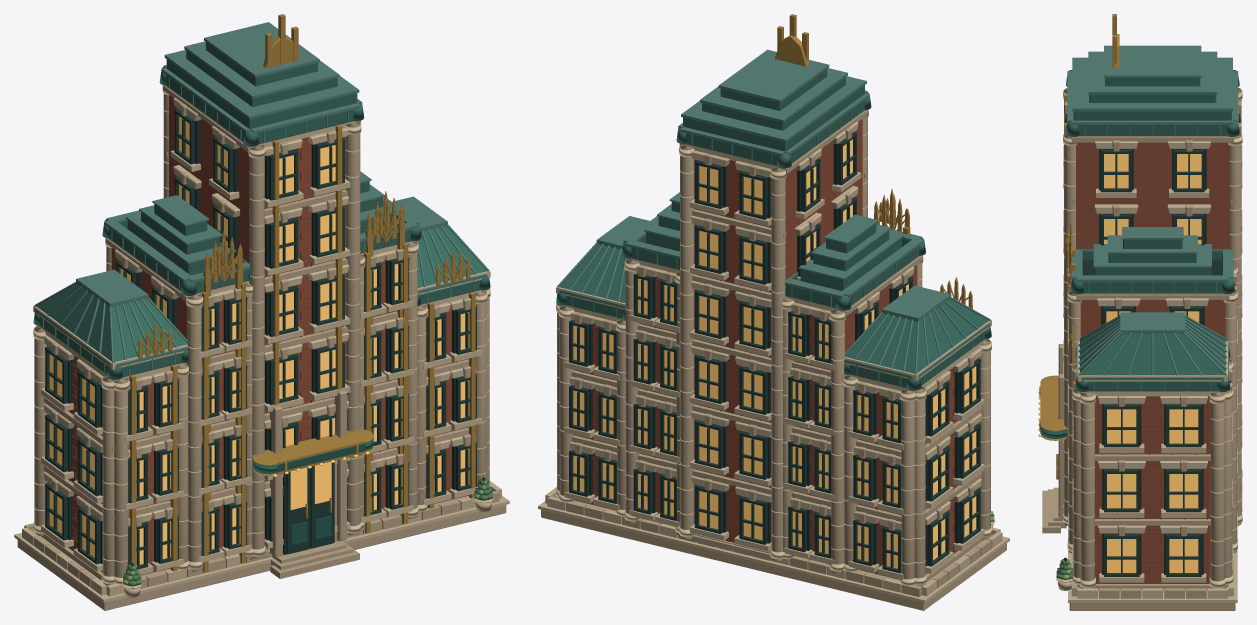
The picture shows the model from 3 angles, left to right: view 1: azimuth 30°, elevation 25°; view 2: azimuth 150°, elevation 25°; view 3: azimuth 270°, elevation 25°; orthographic projection. The views are drawn at different scales.
Parts seen in each view (by area): view 1: expansion_skyscraper_3_geometry; view 2: expansion_skyscraper_3_geometry; view 3: expansion_skyscraper_3_geometry.
Part boxes in pixels (left/top/right/bottom): expansion_skyscraper_3_geometry: left=14, top=14, right=509, bottom=610; expansion_skyscraper_3_geometry: left=538, top=14, right=1009, bottom=610; expansion_skyscraper_3_geometry: left=1038, top=14, right=1242, bottom=610.
Size of the model in its own units: 2.08 by 2.6 by 0.9573.
